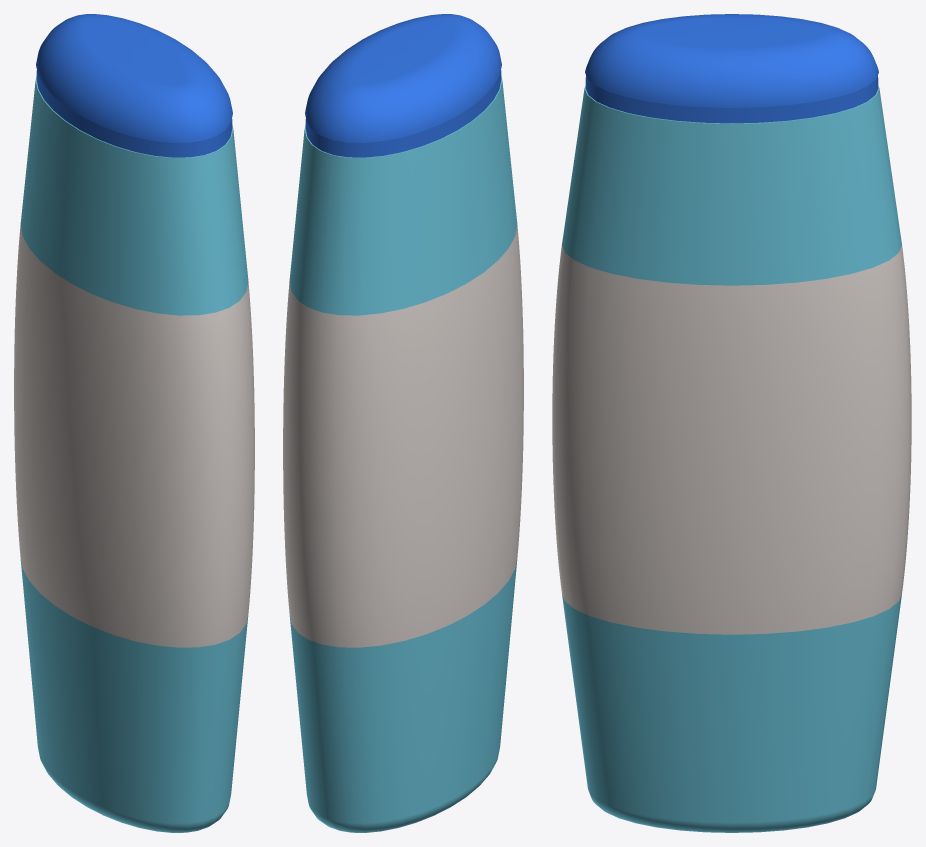
The model's file is Flacone Shampoo.fbx.
The picture shows the model from 3 angles, left to right: view 1: azimuth 30°, elevation 25°; view 2: azimuth 150°, elevation 25°; view 3: azimuth 270°, elevation 25°; orthographic projection. The views are drawn at different scales.
Visible parts, largest first — view 1: Cylinder; view 2: Cylinder; view 3: Cylinder.
Part boxes in pixels (x1,y1,x2,y2): Cylinder: (14, 14, 254, 832); Cylinder: (283, 14, 523, 832); Cylinder: (552, 14, 911, 832).
Bounding box in the file's own units: 5.06 × 21 × 8.86.
